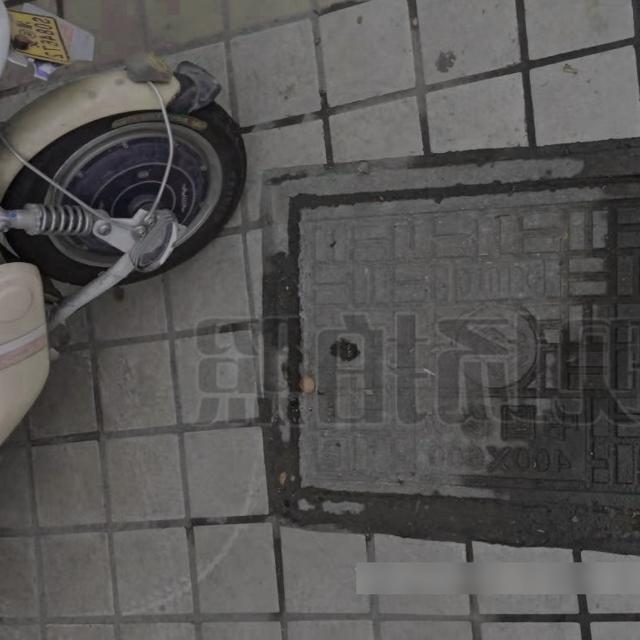good: (269, 134, 640, 536)
